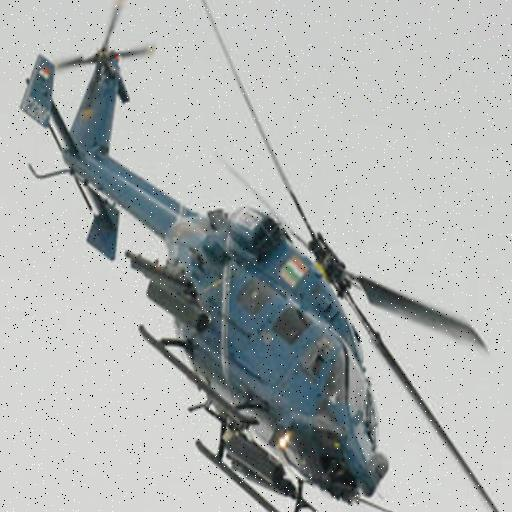helicopter: (20, 1, 512, 512)
